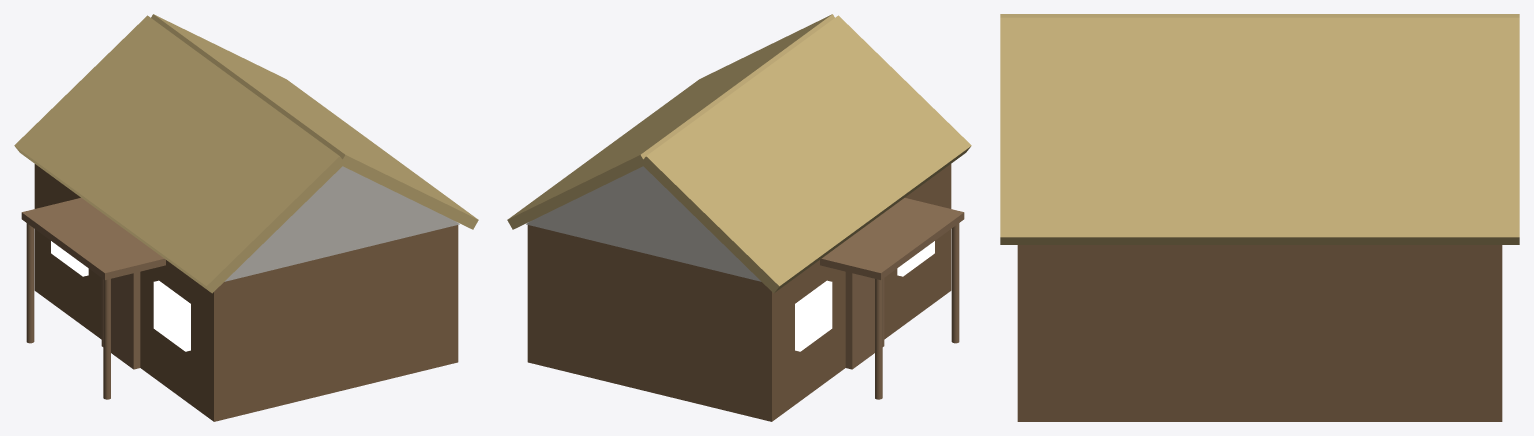
Rendered from Cabin.fbx.
3 renders of one model, left to right at view 1: azimuth 30°, elevation 25°; view 2: azimuth 150°, elevation 25°; view 3: azimuth 270°, elevation 25°, orthographic. The views are drawn at different scales.
Visible parts, largest first — view 1: CabinRoof1, CabinBody, Gable.Cabin.R, CabinRoof2, CabinPortico, CabinDoor, CabinWindow2, CabinPost1, CabinPost2, CabinWindow1; view 2: CabinRoof1, CabinBody, Gable.Cabin.L, CabinRoof2, CabinPortico, CabinDoor, CabinWindow1, CabinPost2, CabinPost1, CabinWindow2; view 3: CabinRoof2, CabinBody, CabinRoof1.
Boxes of the visible parts, x1,y1,x2,y2 form: CabinRoof1: (14, 15, 345, 293); CabinBody: (34, 164, 458, 421); Gable.Cabin.R: (224, 166, 459, 281); CabinRoof2: (151, 14, 478, 229); CabinPortico: (21, 198, 165, 279); CabinDoor: (101, 271, 140, 369); CabinWindow2: (153, 280, 190, 351); CabinPost1: (26, 223, 34, 343); CabinPost2: (103, 279, 110, 399); CabinWindow1: (51, 241, 88, 276); CabinRoof1: (641, 15, 971, 293); CabinBody: (527, 164, 951, 421); Gable.Cabin.L: (526, 166, 761, 281); CabinRoof2: (507, 14, 834, 229); CabinPortico: (820, 198, 964, 279); CabinDoor: (845, 271, 884, 369); CabinWindow1: (795, 280, 832, 351); CabinPost2: (951, 223, 959, 343); CabinPost1: (875, 279, 882, 399); CabinWindow2: (897, 241, 934, 276); CabinRoof2: (1000, 17, 1519, 244); CabinBody: (1017, 245, 1502, 421); CabinRoof1: (1000, 14, 1519, 17).
Bounding box in the file's own units: 575 × 415 × 600.
